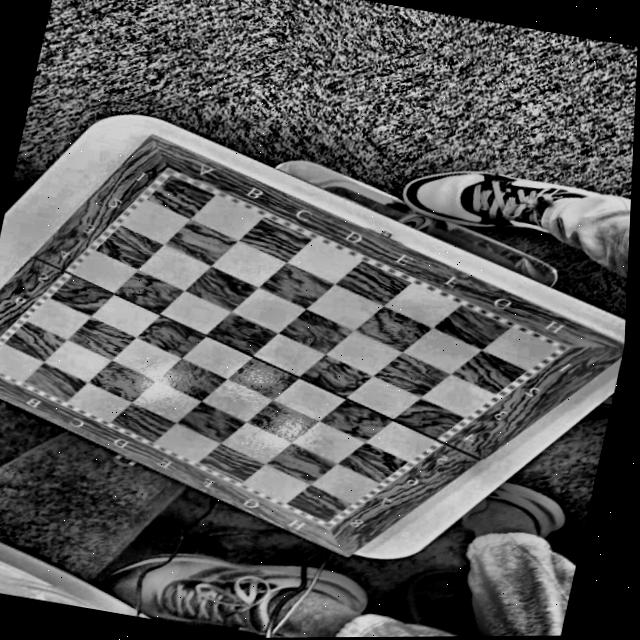chessboard: (0, 140, 623, 552)
